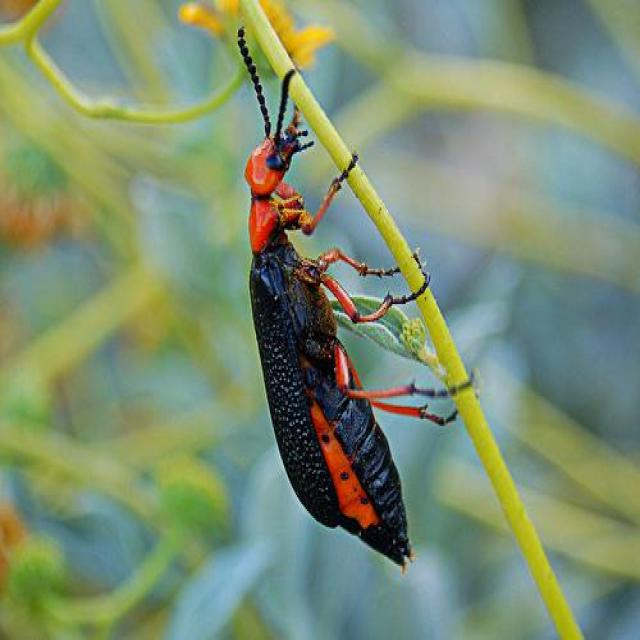BlisterBeetle-Adult-: (208, 10, 473, 584)
